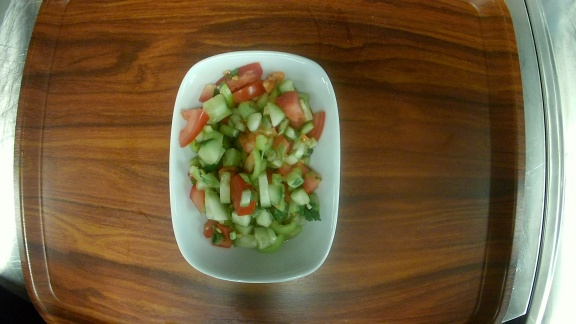cobansalata: (169, 51, 340, 282)
